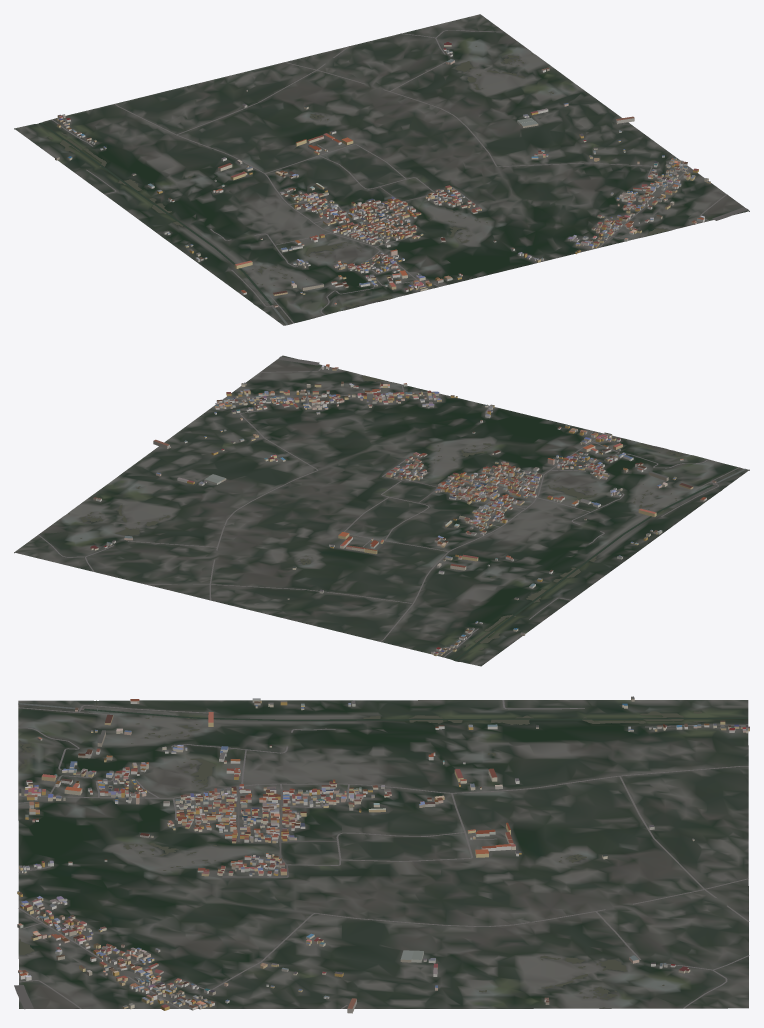
3 renders of one model, top to bottom at view 1: azimuth 30°, elevation 25°; view 2: azimuth 150°, elevation 25°; view 3: azimuth 270°, elevation 25°, orthographic. The views are drawn at different scales.
Parts seen in each view (by area): view 1: ground, buildings, roads, water; view 2: ground, buildings, roads, water; view 3: ground, buildings, roads, water.
Boxes of the visible parts, x1,y1,x2,y2 form: ground: [14, 14, 749, 325]; buildings: [55, 42, 710, 307]; roads: [51, 30, 748, 323]; water: [39, 46, 668, 324]; ground: [14, 355, 749, 666]; buildings: [90, 364, 716, 655]; roads: [38, 356, 739, 657]; water: [68, 375, 746, 660]; ground: [18, 700, 748, 1008]; buildings: [17, 696, 749, 1013]; roads: [14, 700, 749, 1009]; water: [18, 700, 748, 1008].
Bounding box in the file's own units: 1427 × 19.6 × 1413.
